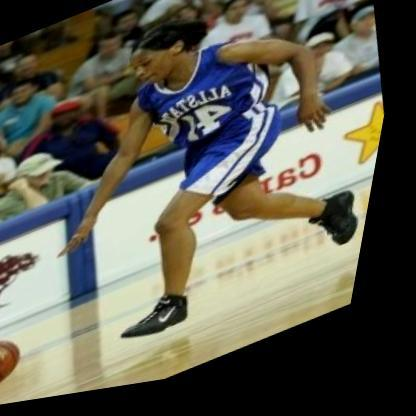basketball: (0, 326, 45, 401)
